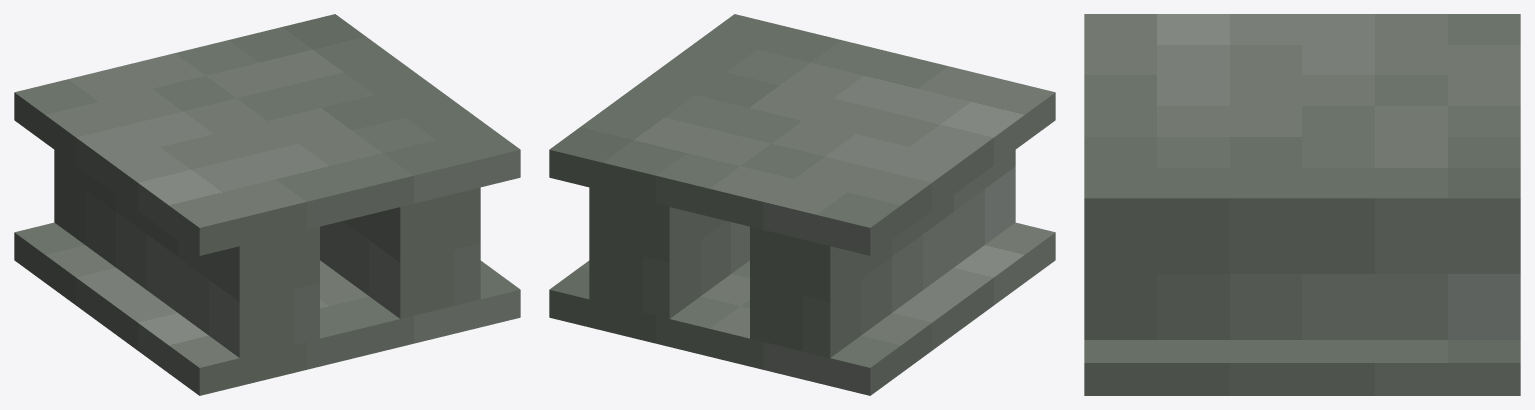
File: power_line_bracket_on_fence.obj
The picture shows the model from 3 angles, left to right: view 1: azimuth 30°, elevation 25°; view 2: azimuth 150°, elevation 25°; view 3: azimuth 270°, elevation 25°; orthographic projection. The views are drawn at different scales.
Visible parts, largest first — view 1: b2, b3, b4, b1; view 2: b2, b3, b4, b1; view 3: b2, b1, b3.
Boxes of the visible parts, x1,y1,x2,y2 form: b2: (14,14,520,255); b3: (14,222,520,395); b4: (54,150,319,357); b1: (320,187,480,318); b2: (549,14,1055,255); b3: (549,222,1055,395); b4: (750,150,1015,357); b1: (589,187,749,318); b2: (1084,14,1520,231); b1: (1084,231,1520,339); b3: (1084,340,1520,395).
Bounding box in the file's own units: 0.375 × 0.1875 × 0.375.
